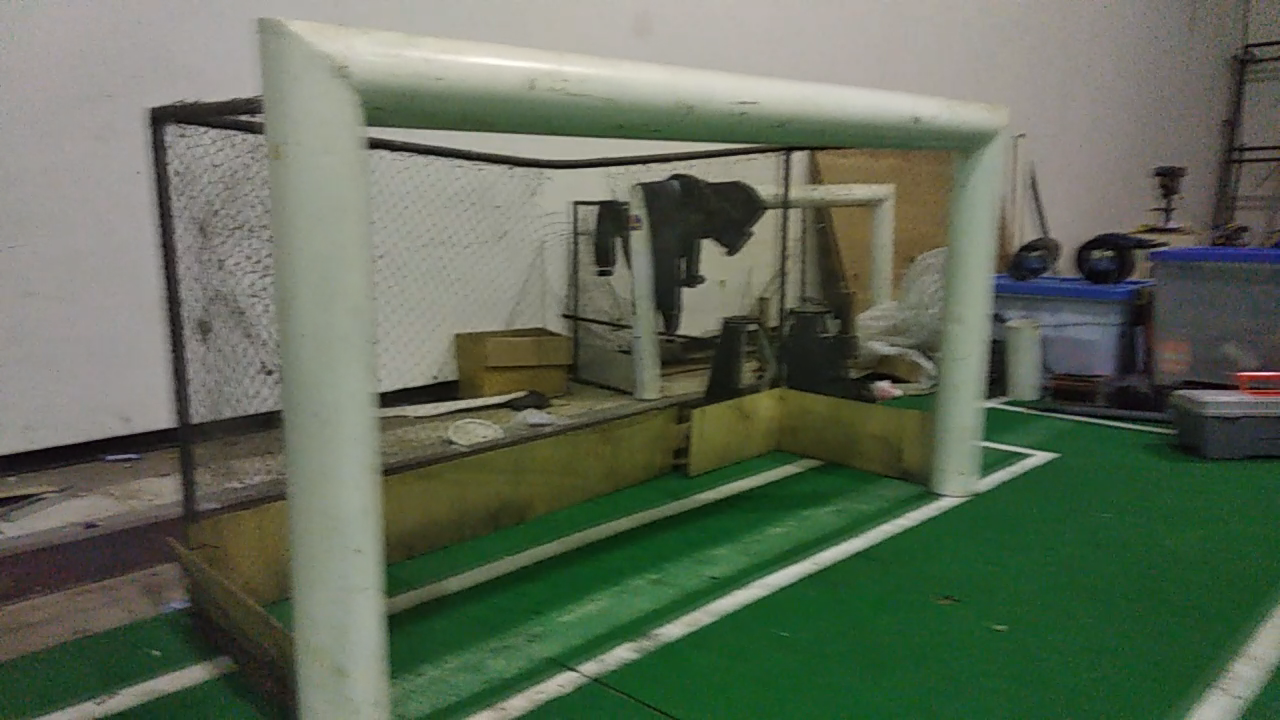gawang: (246, 11, 1017, 715)
